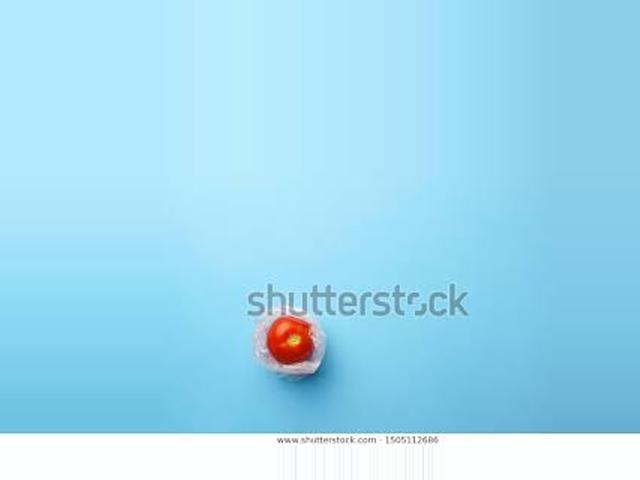tomato: (268, 316, 314, 363)
